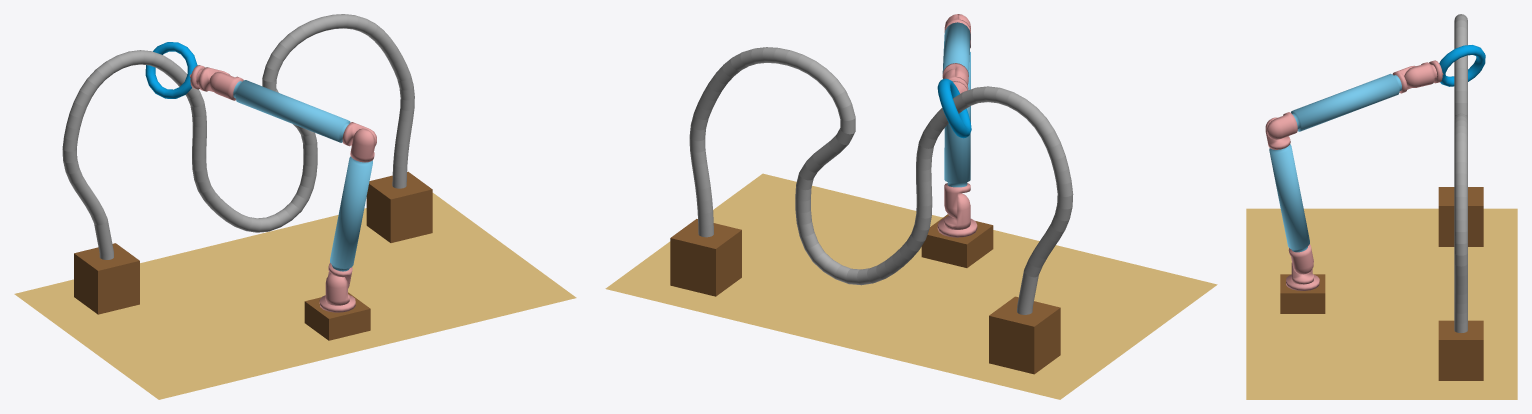
The model's file is wire loop.dae.
The picture shows the model from 3 angles, left to right: view 1: azimuth 30°, elevation 25°; view 2: azimuth 150°, elevation 25°; view 3: azimuth 270°, elevation 25°; orthographic projection. The views are drawn at different scales.
Visible parts, largest first — view 1: Plane, Cylinder, Arm1, Cube, Cube_001, Roboterarm, ArmBase_002, ArmBase; view 2: Plane, Cylinder, Cube_001, Cube, Arm1, Roboterarm, ArmBase_002, ArmBase; view 3: Plane, Arm1, Cylinder, Cube, Cube_001, Roboterarm, ArmBase_002, ArmBase_001, ArmBase.
Part boxes in pixels (x1,y1,x2,y2): Plane: (14, 193, 576, 399); Cylinder: (62, 14, 414, 259); Arm1: (209, 72, 376, 288); Cube: (366, 171, 432, 242); Cube_001: (74, 243, 139, 314); Roboterarm: (304, 292, 370, 340); ArmBase_002: (145, 42, 197, 98); ArmBase: (319, 273, 355, 312); Plane: (605, 173, 1217, 399); Cylinder: (689, 47, 1073, 314); Cube_001: (989, 296, 1060, 374); Cube: (670, 219, 741, 296); Arm1: (942, 14, 970, 218); Roboterarm: (921, 214, 993, 267); ArmBase_002: (937, 78, 971, 138); ArmBase: (937, 193, 977, 237); Plane: (1246, 208, 1517, 399); Arm1: (1265, 65, 1415, 274); Cylinder: (1454, 14, 1467, 332); Cube: (1438, 320, 1483, 380); Cube_001: (1438, 187, 1483, 246); Roboterarm: (1280, 274, 1325, 313); ArmBase_002: (1439, 45, 1485, 86); ArmBase_001: (1404, 62, 1437, 87); ArmBase: (1286, 263, 1319, 290).
Size of the model in its own units: 20 by 12 by 11.11.
